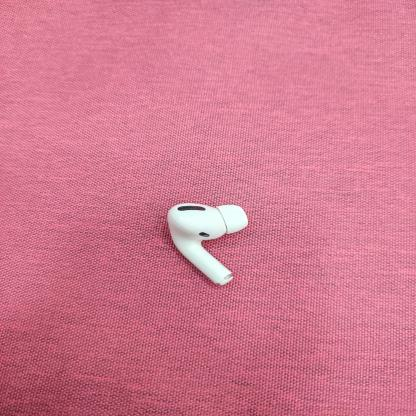Airpods: (161, 193, 252, 286)
